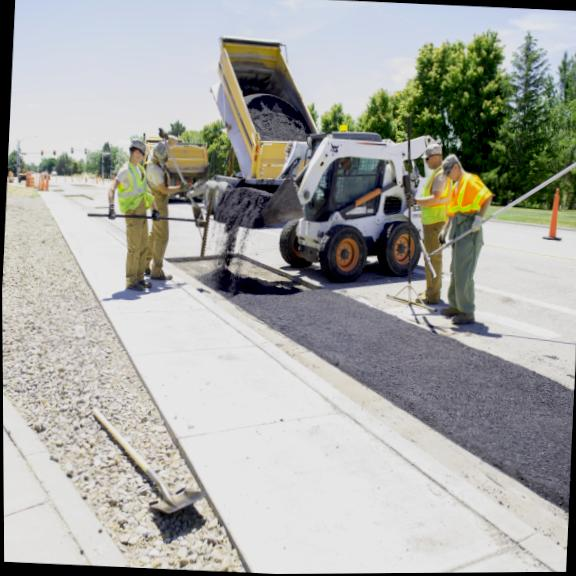no_safety_vest: (141, 152, 172, 204)
safety_vest: (416, 164, 455, 227), (449, 162, 490, 219), (116, 160, 149, 215)
